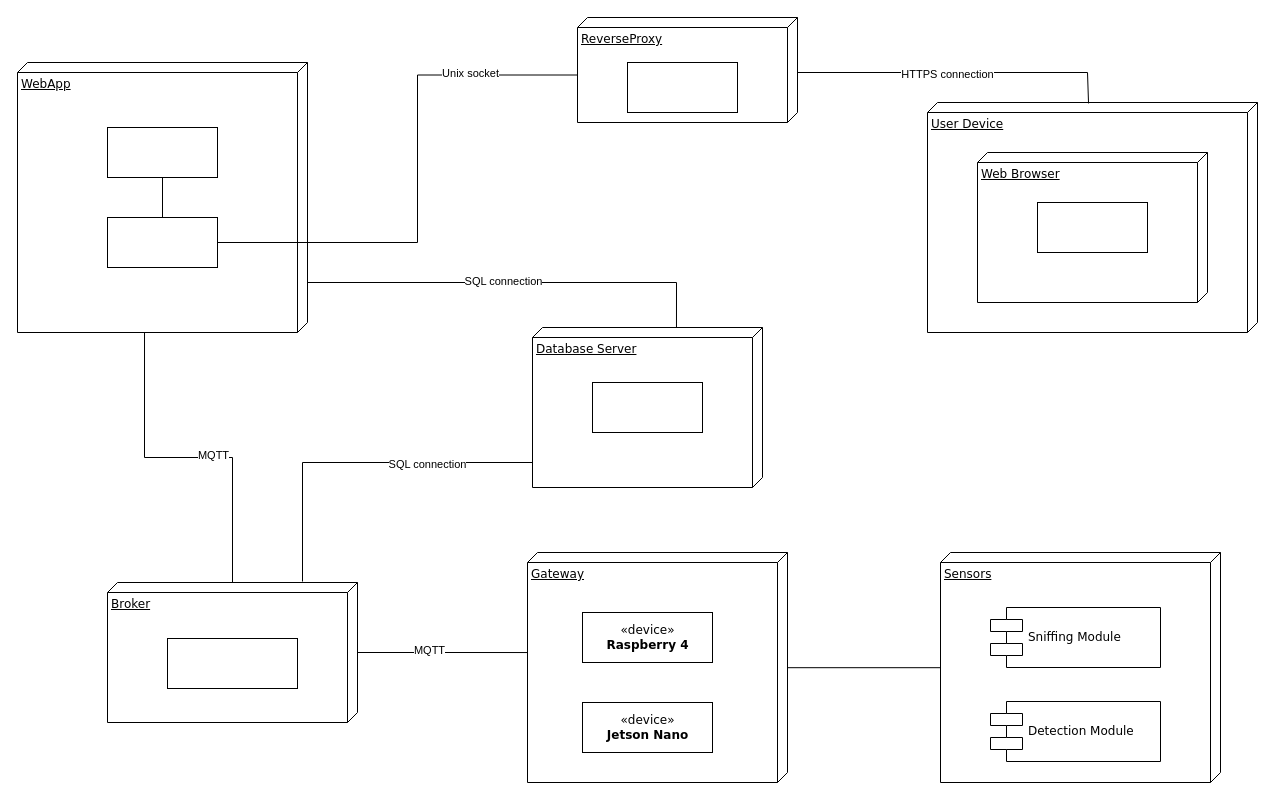
This 1275x800 diagram has some shape labels left out. The shapes that lost their labels are listed below. From the top down, each one's centre as x and y in pixels, then its label:
point 682,87: «component» Nginx
point 162,152: «component» Flask
point 162,242: «component» Gunicorn
point 1092,227: «artifact» HTML Page
point 647,407: «artifact» SQLite Server
point 232,663: «component» MQTT Broker
